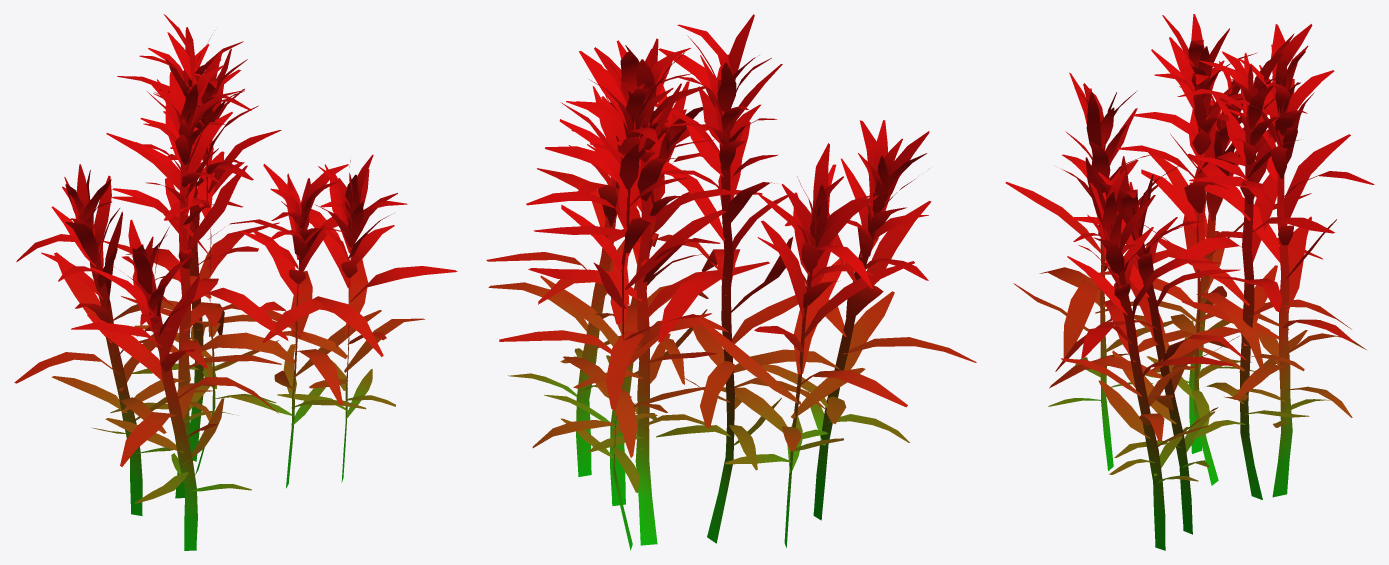
The model's file is Butterfly Weed_LOD3_Var4.fbx.
3 views of the same model, side by side, from view 1: azimuth 30°, elevation 25°; view 2: azimuth 150°, elevation 25°; view 3: azimuth 270°, elevation 25° (orthographic). The views are drawn at different scales.
Visible parts, largest first — view 1: _fr4g_Var4_LOD3; view 2: _fr4g_Var4_LOD3; view 3: _fr4g_Var4_LOD3.
Part boxes in pixels (x1,y1,x2,y2): _fr4g_Var4_LOD3: (14, 14, 457, 550); _fr4g_Var4_LOD3: (486, 14, 976, 550); _fr4g_Var4_LOD3: (1005, 14, 1374, 550).
Size of the model in its own units: 67.64 by 76.04 by 53.06.
